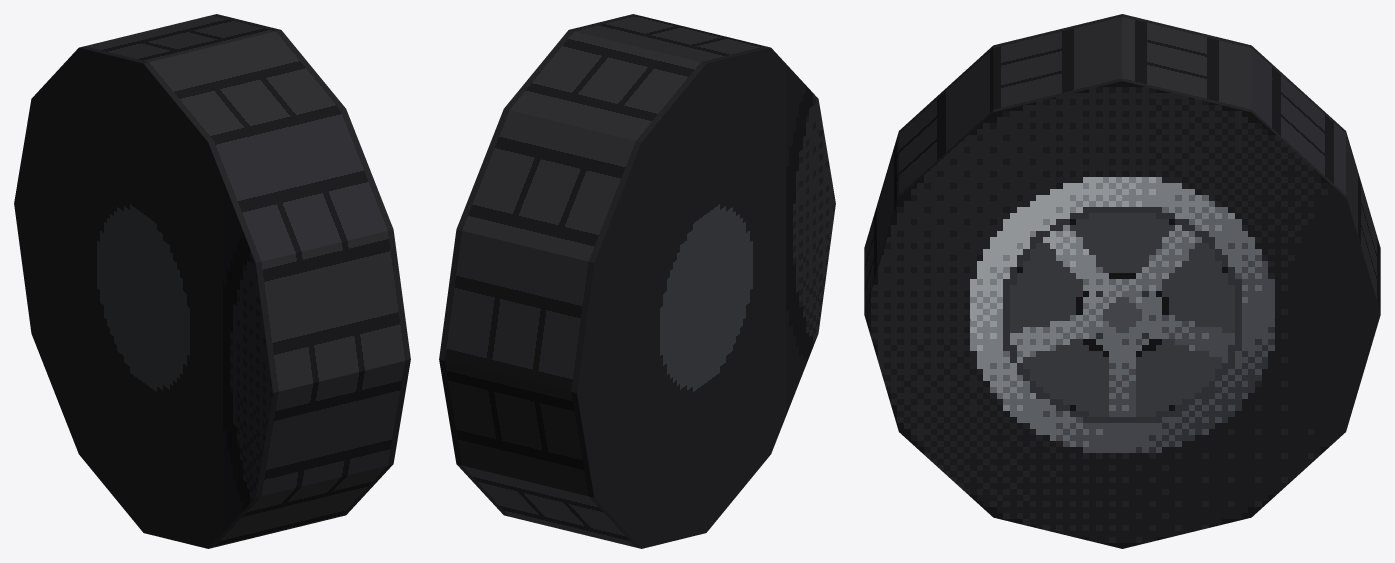
File: wheel_dish.glb
3 views of the same model, side by side, from view 1: azimuth 30°, elevation 25°; view 2: azimuth 150°, elevation 25°; view 3: azimuth 270°, elevation 25° (orthographic).
Visible parts, largest first — view 1: wheel_dish; view 2: wheel_dish; view 3: wheel_dish.
Boxes of the visible parts, x1,y1,x2,y2 form: wheel_dish: [14, 14, 410, 548]; wheel_dish: [439, 14, 835, 548]; wheel_dish: [864, 14, 1380, 548].
Bounding box in the file's own units: 0.195 × 0.6345 × 0.6345.
1 material, 1 textured.
